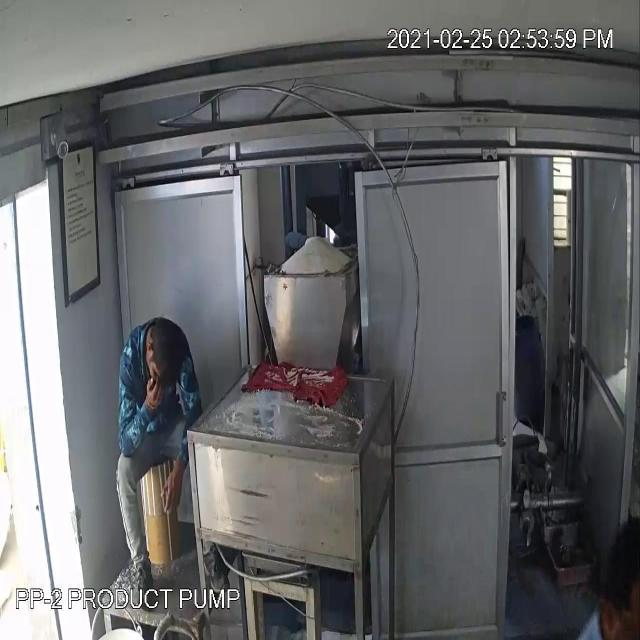no-helmet: (149, 324, 177, 370)
